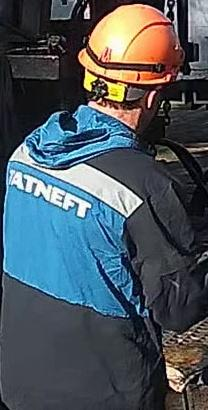helmet: (77, 3, 185, 90)
vest: (0, 105, 207, 409)
